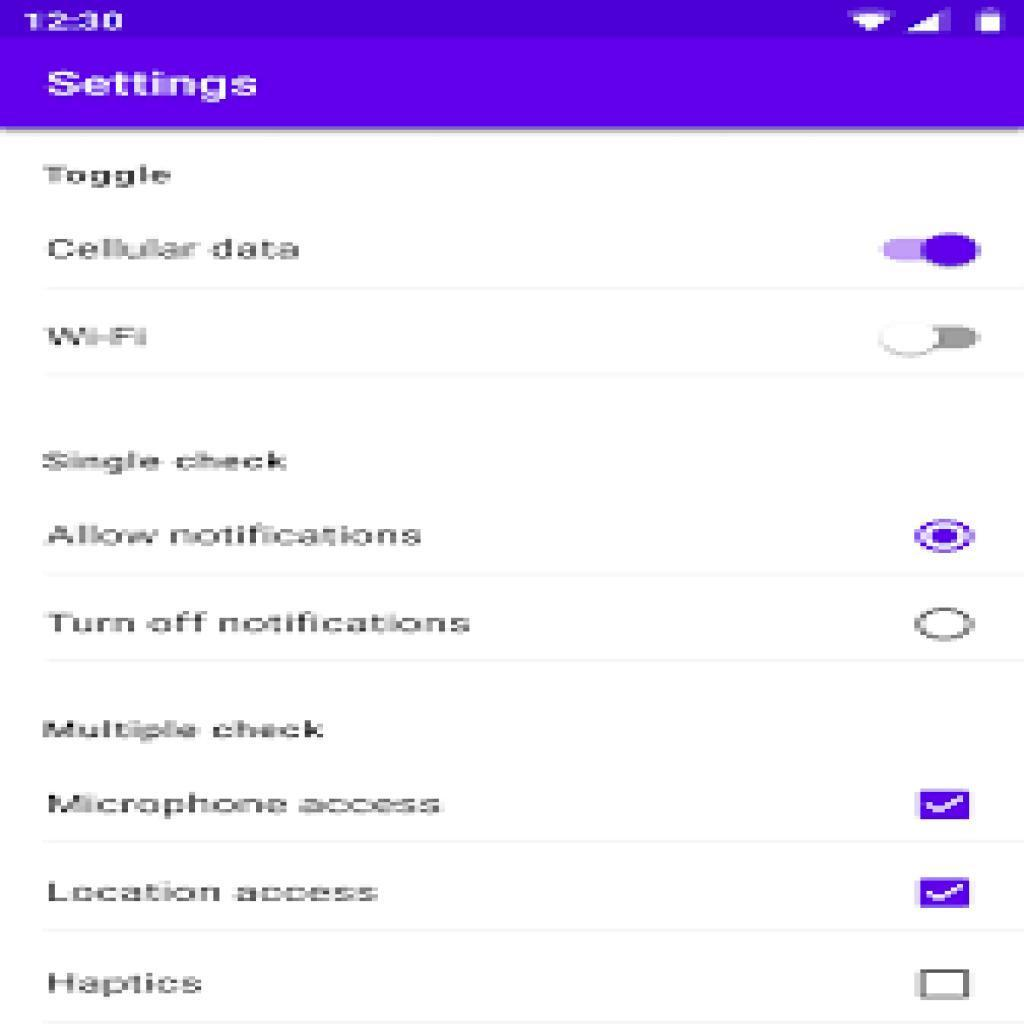checkbox: (916, 878, 976, 913), (916, 789, 974, 821), (921, 968, 971, 1000)
label: (37, 517, 438, 556), (41, 607, 482, 639), (38, 791, 444, 824), (42, 230, 327, 270), (42, 880, 387, 910), (34, 714, 333, 746), (45, 60, 271, 102), (34, 450, 294, 479), (44, 967, 205, 1001), (45, 155, 177, 192), (41, 322, 170, 358)
radio: (914, 516, 978, 553), (912, 609, 978, 644)
switch: (878, 234, 984, 271), (879, 320, 978, 356)
